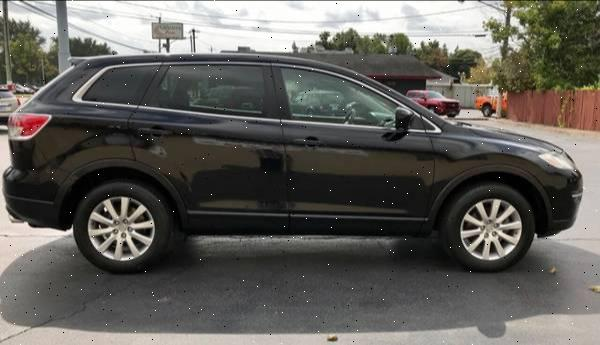Front_Bumper: (533, 167, 586, 236)
Front_Fender: (426, 128, 556, 230)
Front_Right_Door: (284, 119, 437, 233)
Front_Right_Window: (275, 61, 446, 130)
Hood: (443, 122, 572, 151)
Rear_Bumper: (1, 135, 75, 232)
Rear_Fender: (12, 61, 165, 176)
Rear_Right_Door: (128, 106, 293, 232)
Rear_Right_Window: (138, 60, 282, 117)
Right_Headlight: (542, 148, 582, 171)
Right_Taillight: (2, 109, 51, 139)
Roof: (20, 48, 446, 125)
Wheel: (72, 182, 170, 273), (448, 184, 537, 270)
